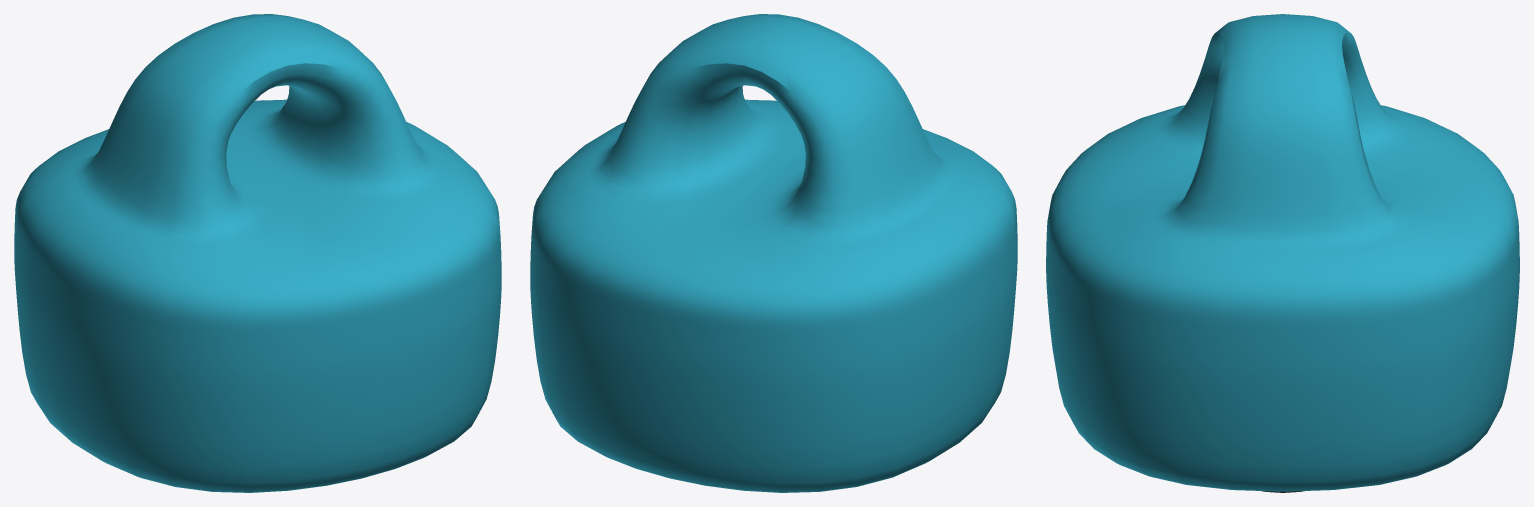
3 renders of one model, left to right at view 1: azimuth 30°, elevation 25°; view 2: azimuth 150°, elevation 25°; view 3: azimuth 270°, elevation 25°, orthographic.
Visible parts, largest first — view 1: Deckel3; view 2: Deckel3; view 3: Deckel3.
Boxes of the visible parts, x1=… form: Deckel3: x1=14, y1=14, x2=501, y2=492; Deckel3: x1=530, y1=14, x2=1017, y2=492; Deckel3: x1=1046, y1=14, x2=1519, y2=492.
Bounding box in the file's own units: 6.74 × 6.79 × 6.78.
